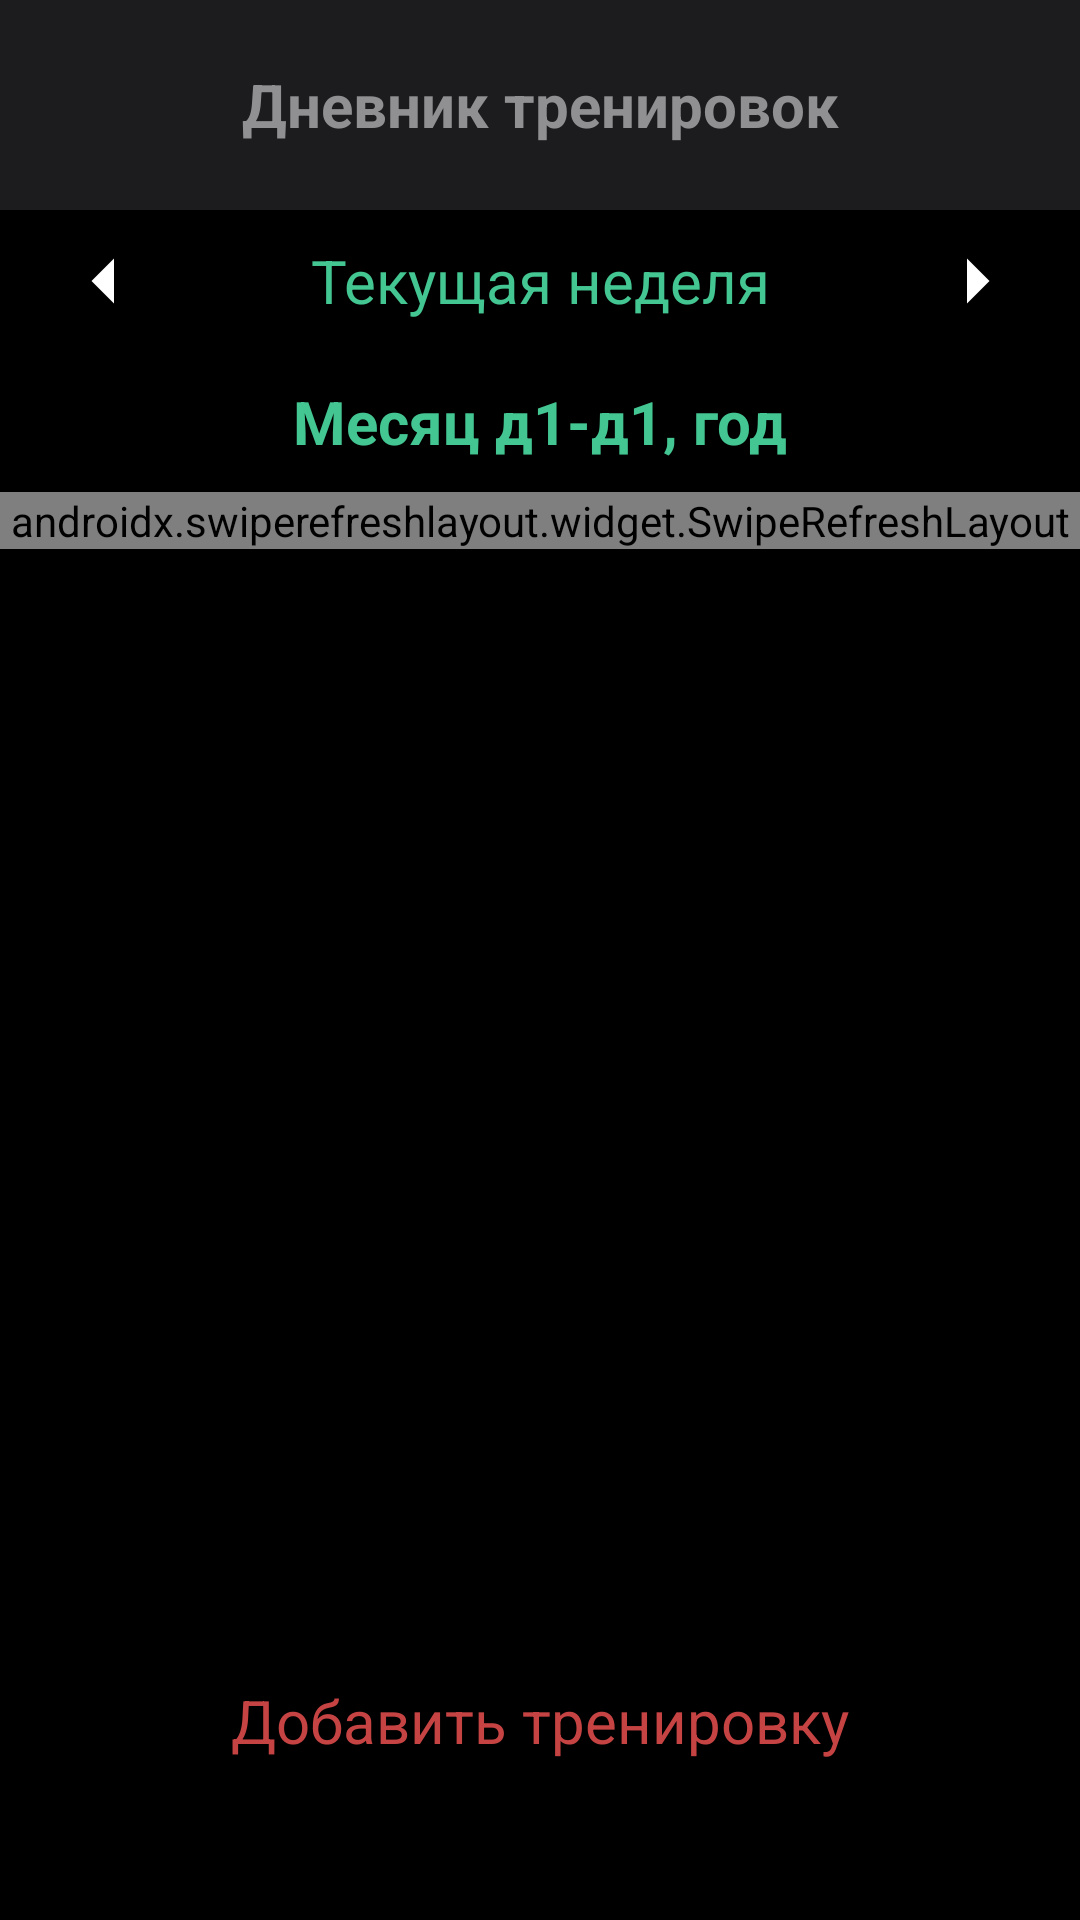

Icon bounding boxes for this 1080w x 1920h phone screenshot, format (x1, y1, x2, y2):
arrow left: (91, 258, 114, 304)
arrow right: (967, 258, 990, 304)
